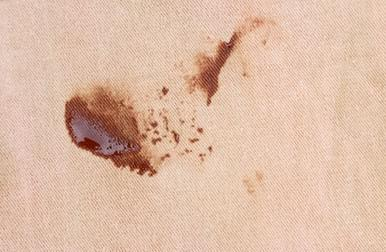gun: (56, 92, 204, 173), (200, 32, 248, 100), (246, 167, 264, 192)
